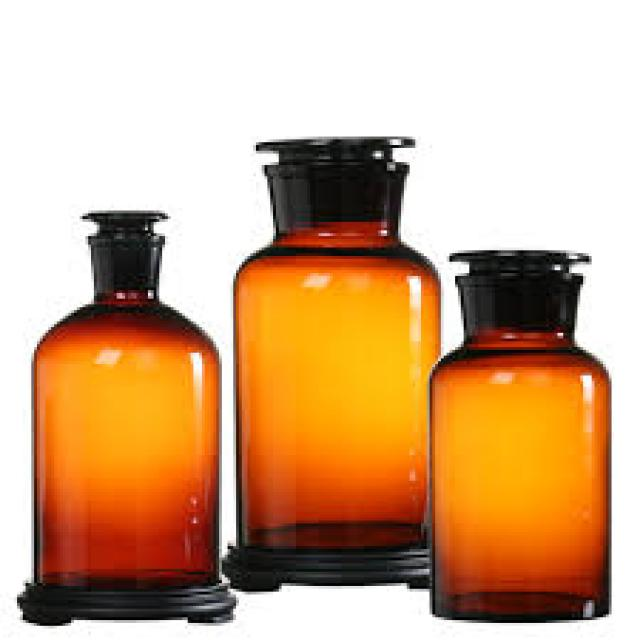glass: (233, 137, 438, 549), (31, 210, 216, 586), (424, 248, 609, 620)
